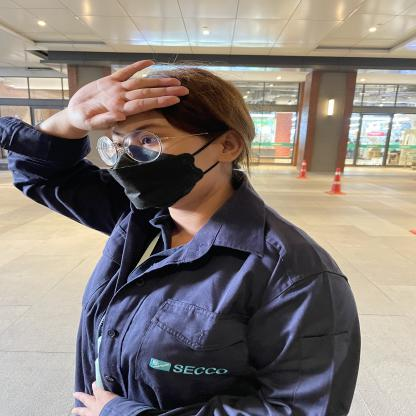Sick: (26, 33, 203, 134)
